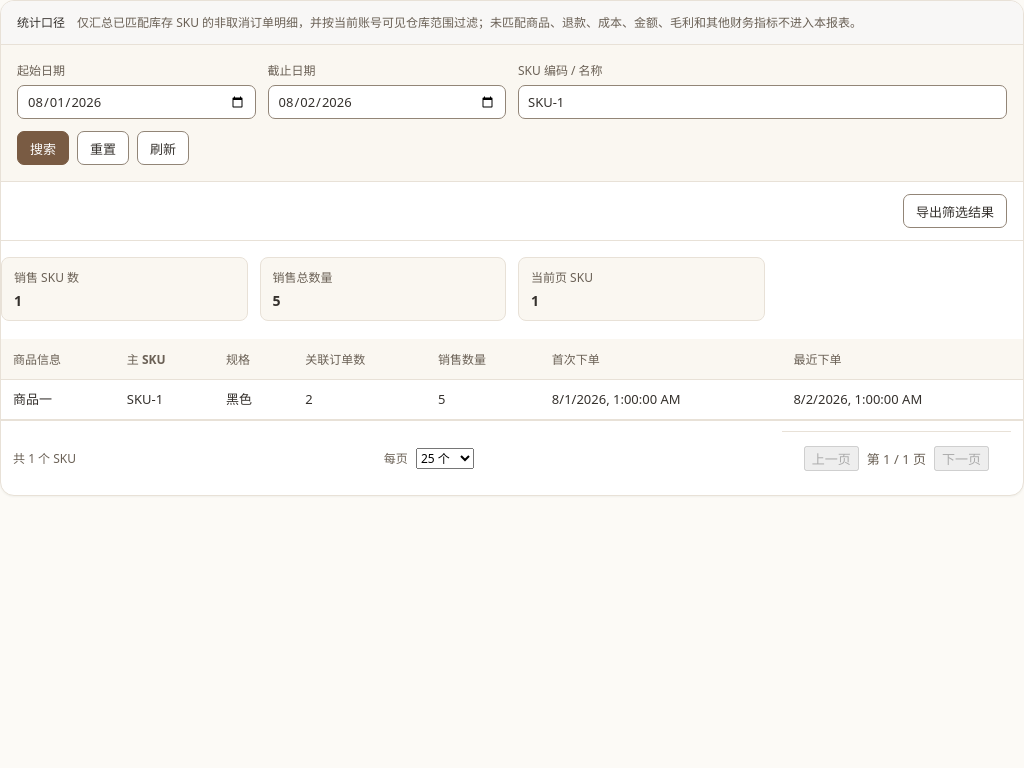
analytics sales report shells › downloads the current product sales filter and announces success
Click the button "导出筛选结果" at (955, 211), box [903,194,1007,228]
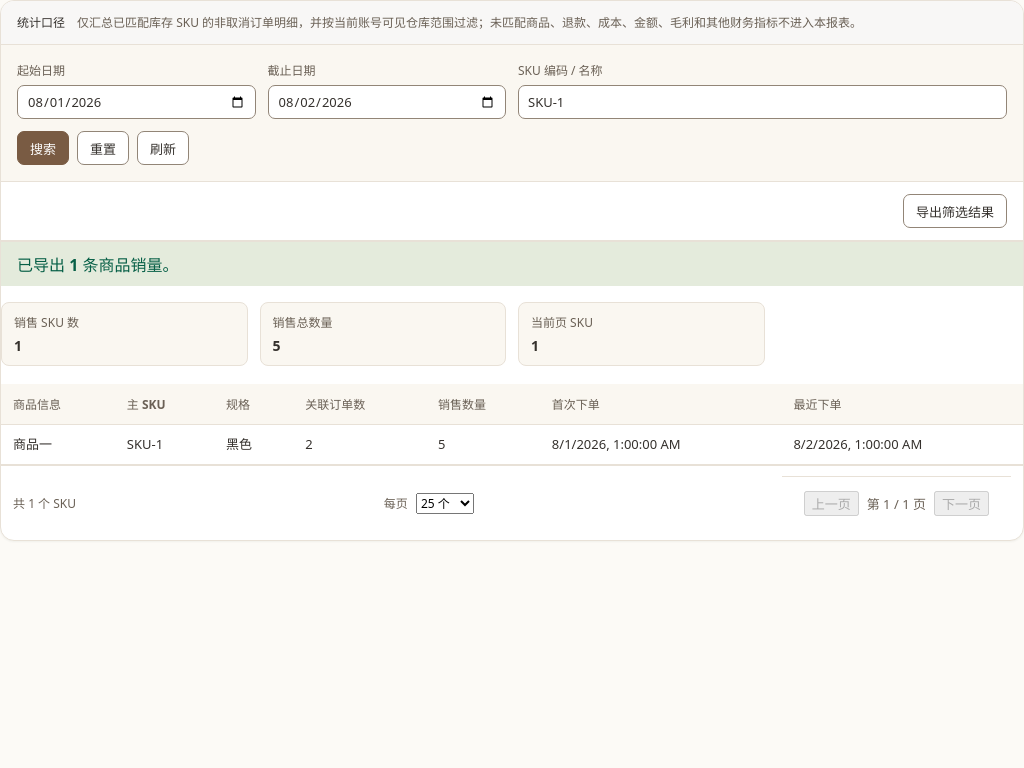
Expected: the text "已导出 1 条商品销量。" is shown, [1,241,1023,286]
